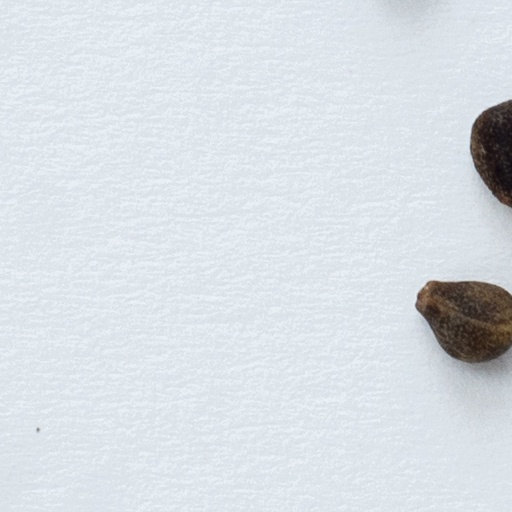Convolvulus-poly: (413, 279, 511, 367), (469, 98, 511, 213)
